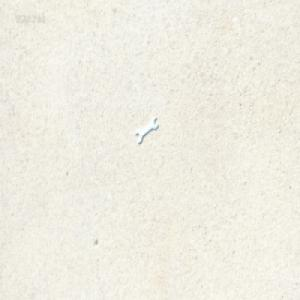Wrench: (134, 115, 157, 143)
